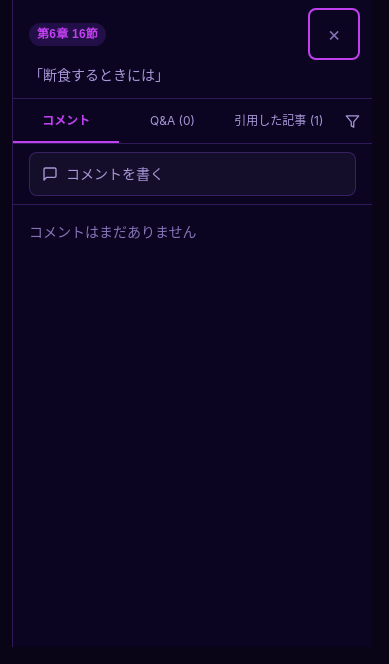
Scenario: CommentPanel の「引用した記事」タブ › タブを押すと記事の一覧が出る（既定はコメント）
This screenshot has width=389, height=664.
Expected: the text "断食について" is not shown
Click the tab "引用した記事 (1)" at (279, 121), box [226,99,332,143]
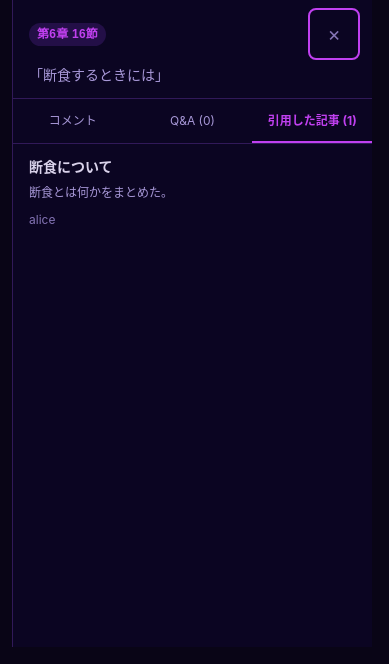
Expected: the text "断食について" is shown, [29,158,113,175]
